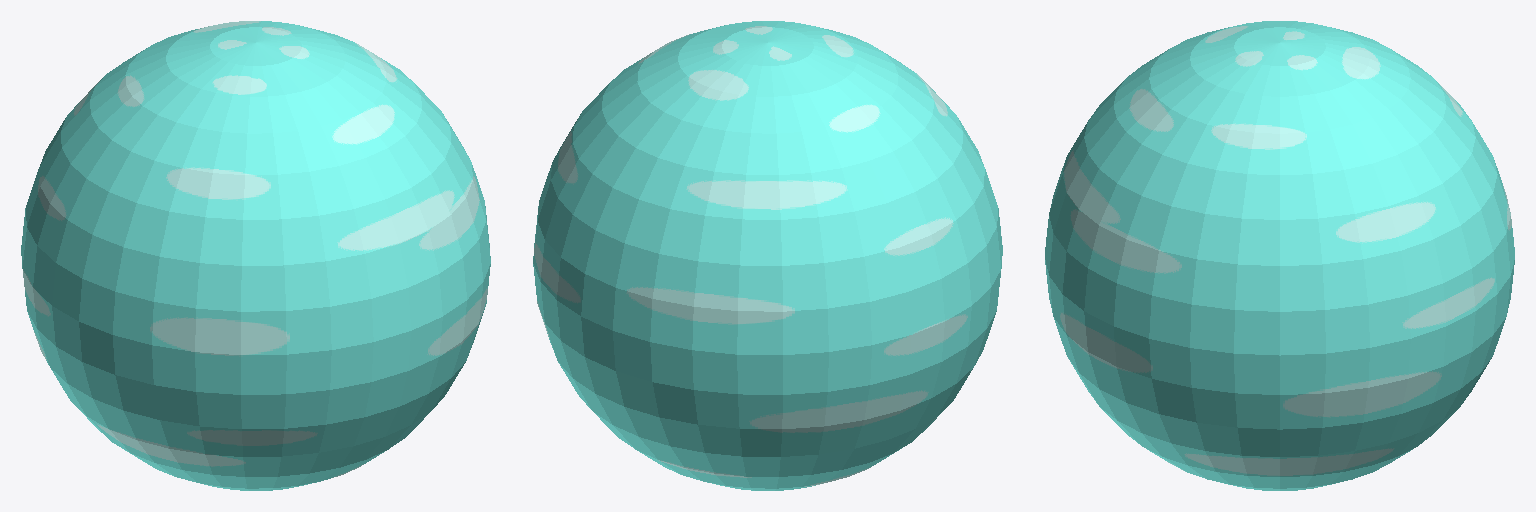
The picture shows the model from 3 angles: view 1: azimuth 30°, elevation 25°; view 2: azimuth 150°, elevation 25°; view 3: azimuth 270°, elevation 25°; orthographic projection.
Visible parts, largest first — view 1: 球; view 2: 球; view 3: 球.
Boxes of the visible parts, <box> form: 球: <box>21,21,490,490</box>; 球: <box>533,21,1002,490</box>; 球: <box>1045,21,1514,490</box>.
Size of the model in its own units: 407 by 407 by 407.
Materials: 1 (1 with a texture image).